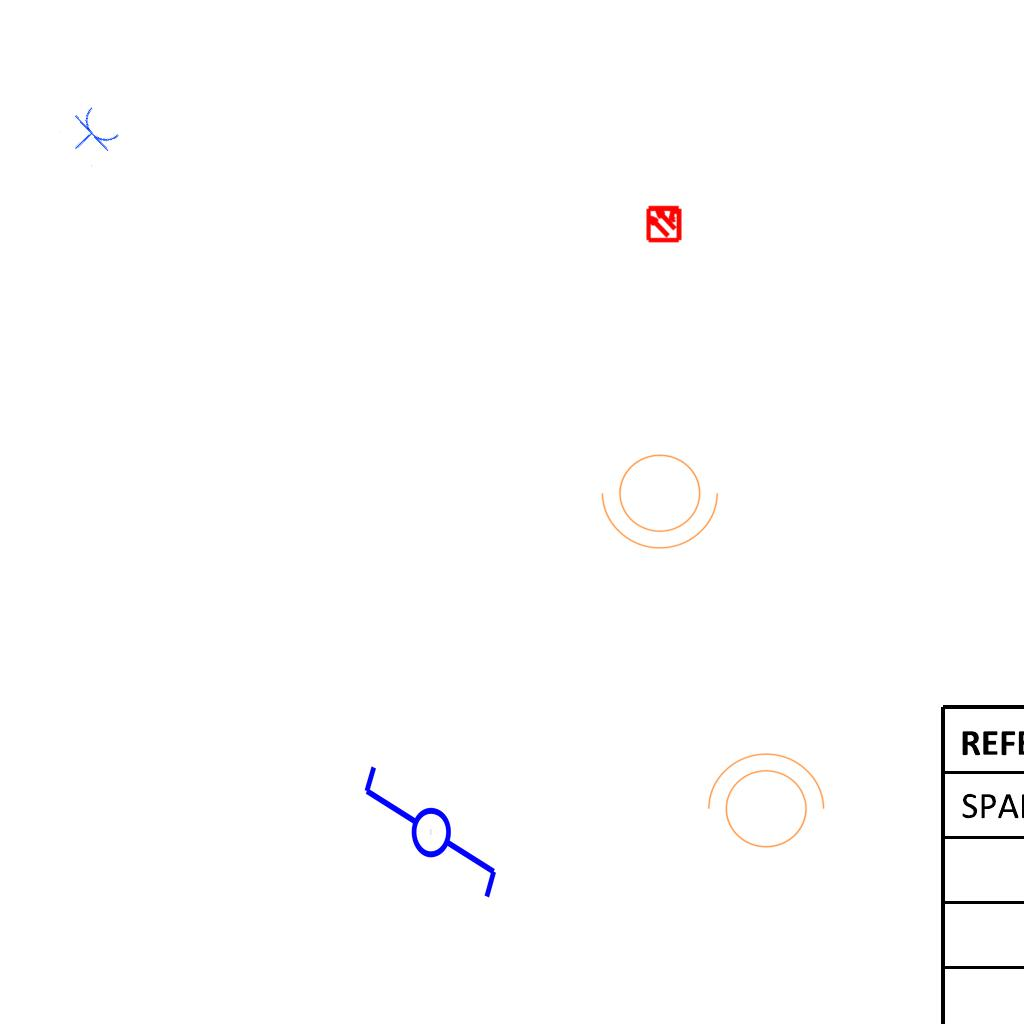OT_Multisensormelder_(Kombination_RMO_WMD): (636, 195, 692, 251)
Scheinwerfer_fuer_Alarmbeleuchtung: (597, 442, 729, 554), (697, 748, 829, 860)
Schukosteckdose_einfach: (58, 101, 124, 168)
Wechselschalter: (357, 762, 501, 919)
